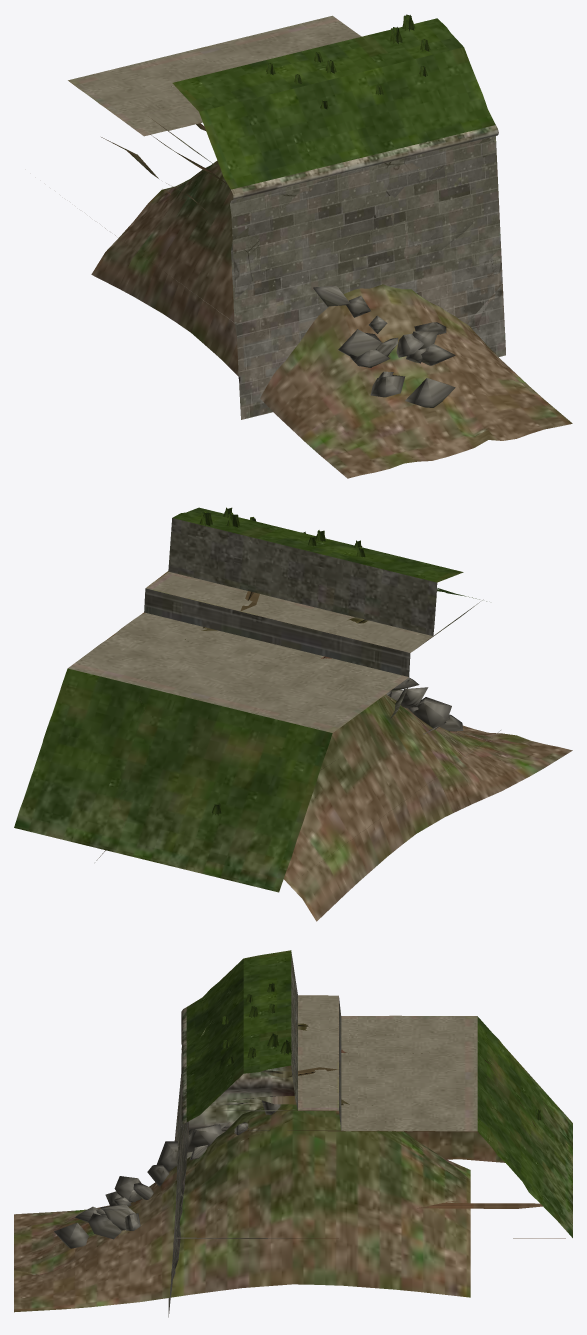
File: starfort_bastion_face_hero.glb
The picture shows the model from 3 angles, top to bottom: view 1: azimuth 30°, elevation 25°; view 2: azimuth 150°, elevation 25°; view 3: azimuth 270°, elevation 25°; orthographic projection. The views are drawn at different scales.
Parts seen in each view (by area): view 1: breached, intact, cracked; view 2: breached, intact, cracked; view 3: breached, intact, cracked, endcap_b.
Part boxes in pixels (x1,y1,x2,y2): breached: [73, 16, 572, 478]; intact: [68, 16, 504, 419]; cracked: [70, 14, 503, 330]; breached: [14, 512, 572, 921]; intact: [14, 507, 459, 882]; cracked: [32, 507, 450, 889]; breached: [14, 950, 572, 1316]; intact: [168, 954, 572, 1317]; cracked: [171, 960, 572, 1281]; endcap_b: [176, 1066, 565, 1238].
Size of what is drawn, in the model's own units: 6.08 by 6.52 by 12.3.
Materials: 2 (2 with a texture image).
